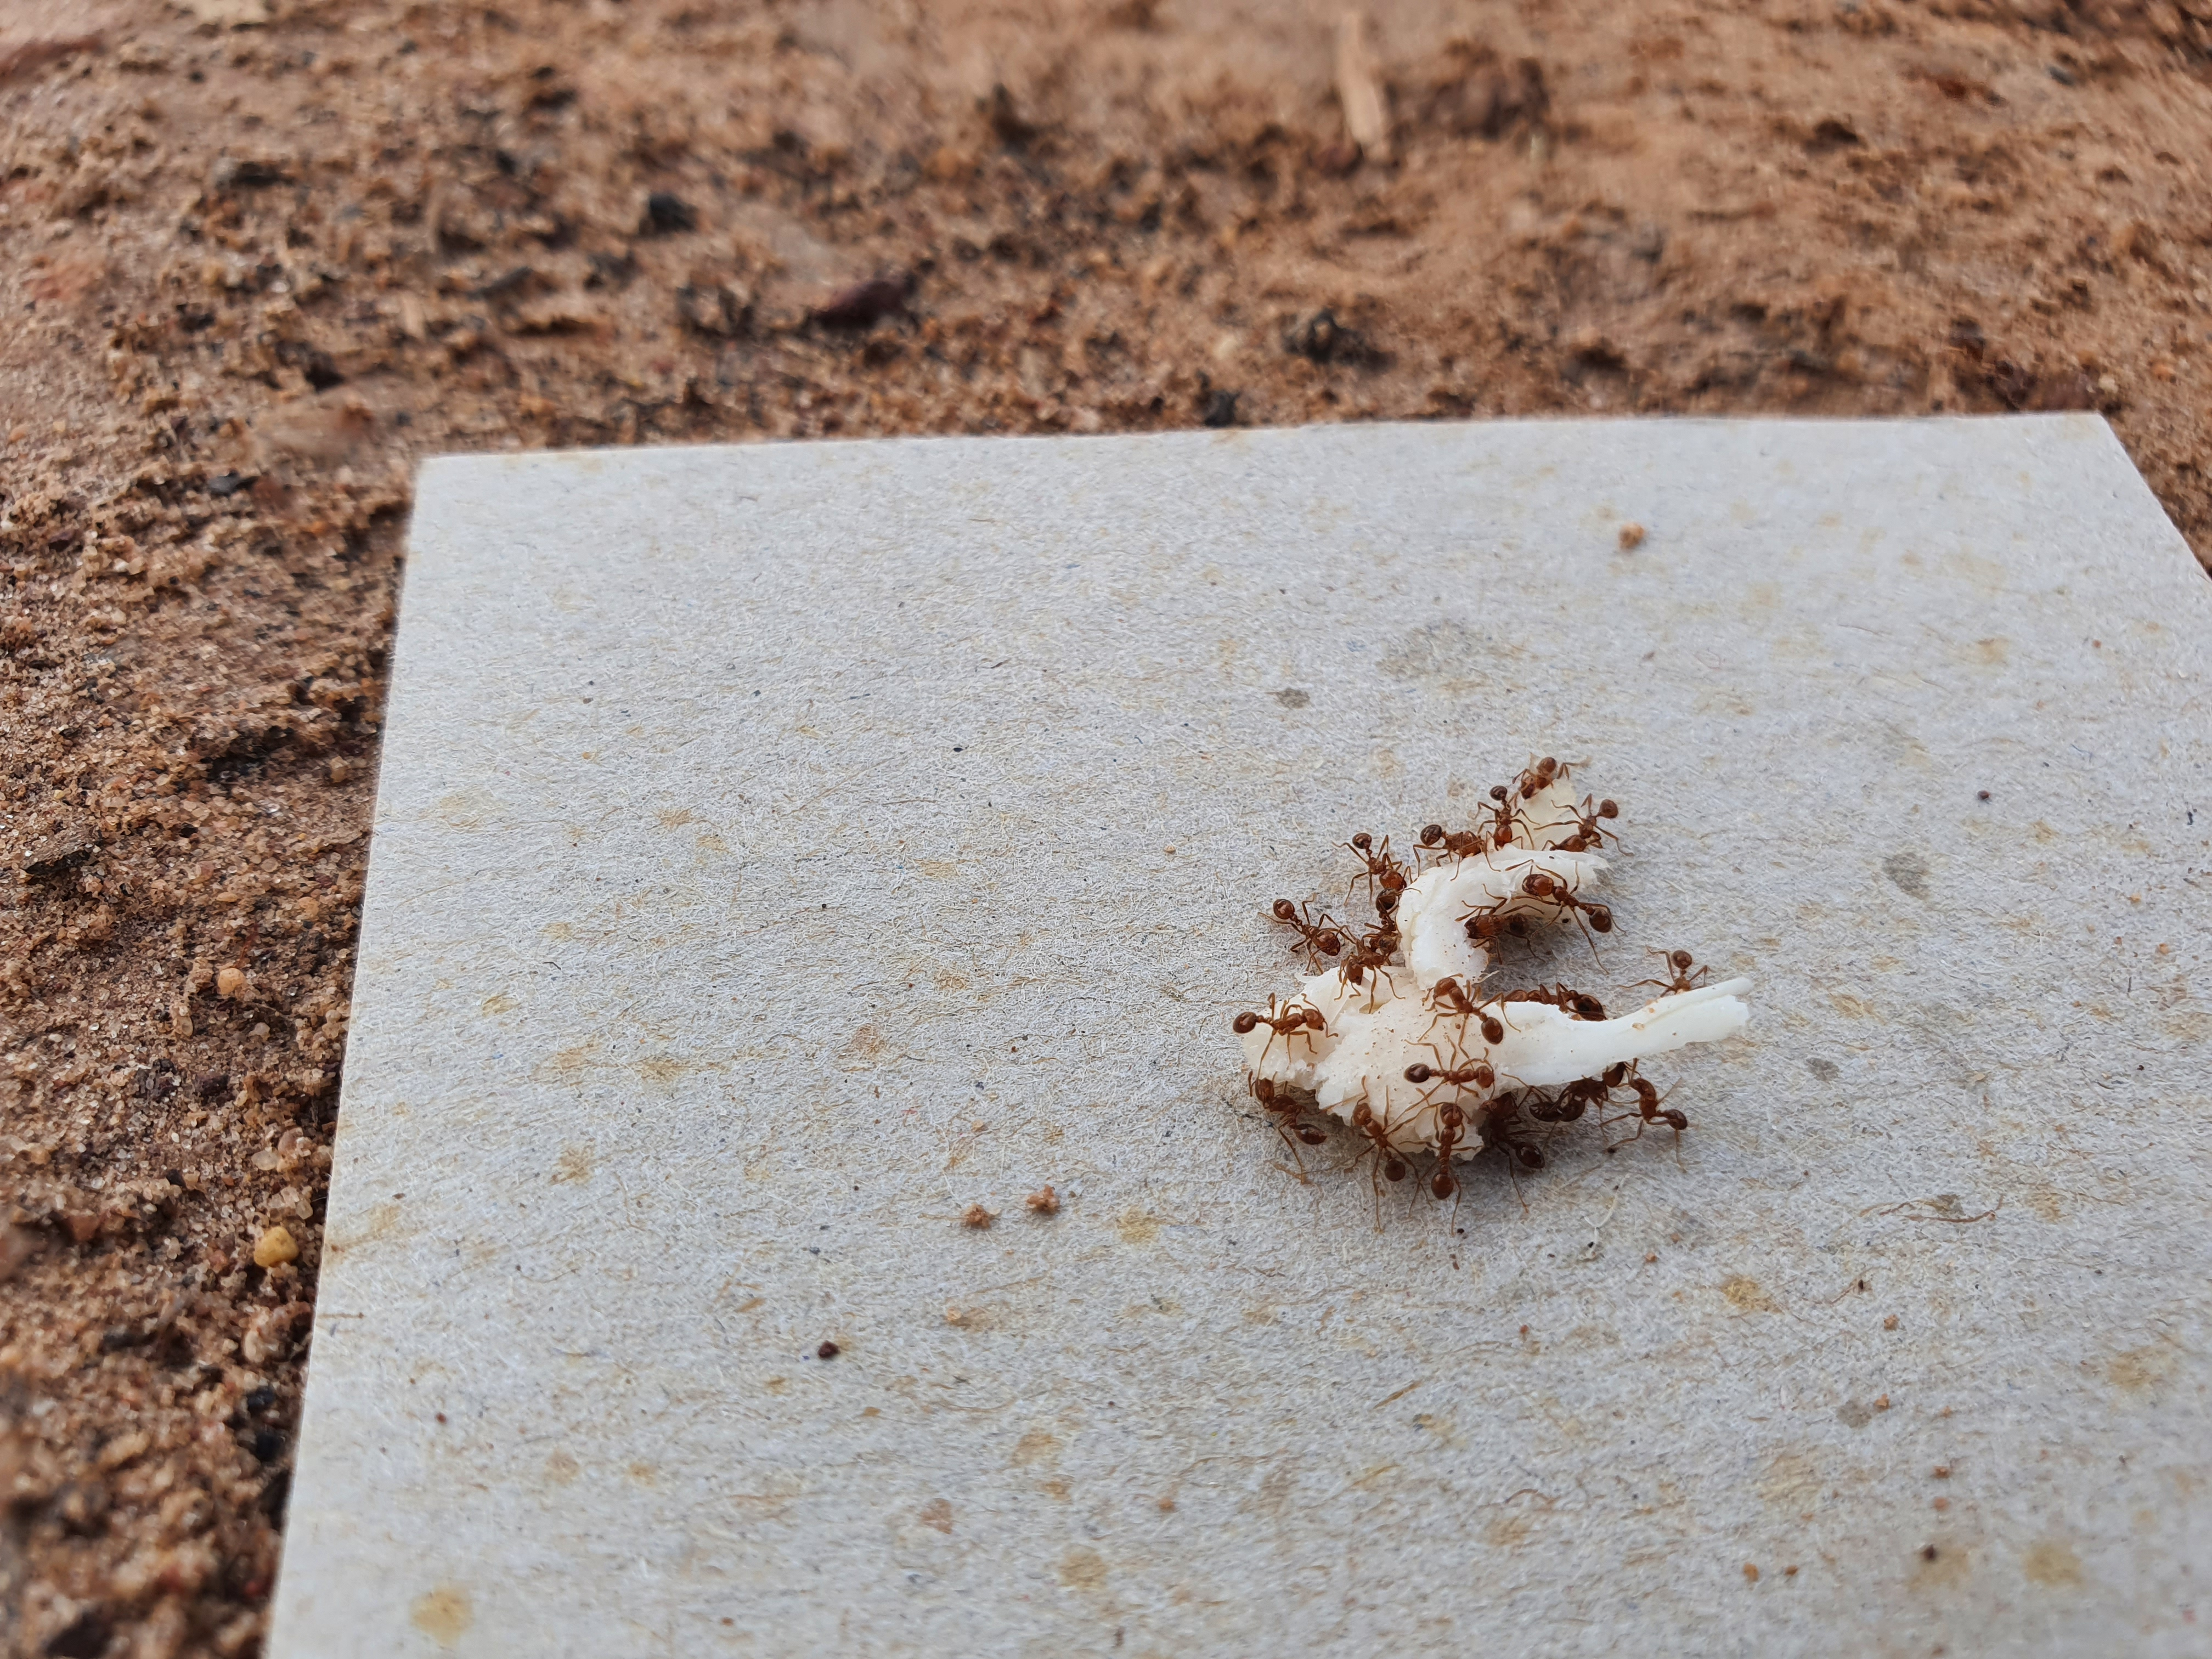Solenopsis_geminata: (1223, 1051, 1341, 1206), (1334, 1072, 1420, 1237), (1212, 972, 1346, 1077), (1514, 852, 1639, 958), (1249, 873, 1350, 985), (1411, 1094, 1489, 1237), (1411, 958, 1519, 1054), (1327, 810, 1425, 908), (1341, 910, 1418, 1019), (1545, 779, 1642, 864), (1390, 1035, 1508, 1101), (1449, 885, 1527, 955), (1409, 812, 1489, 880)
